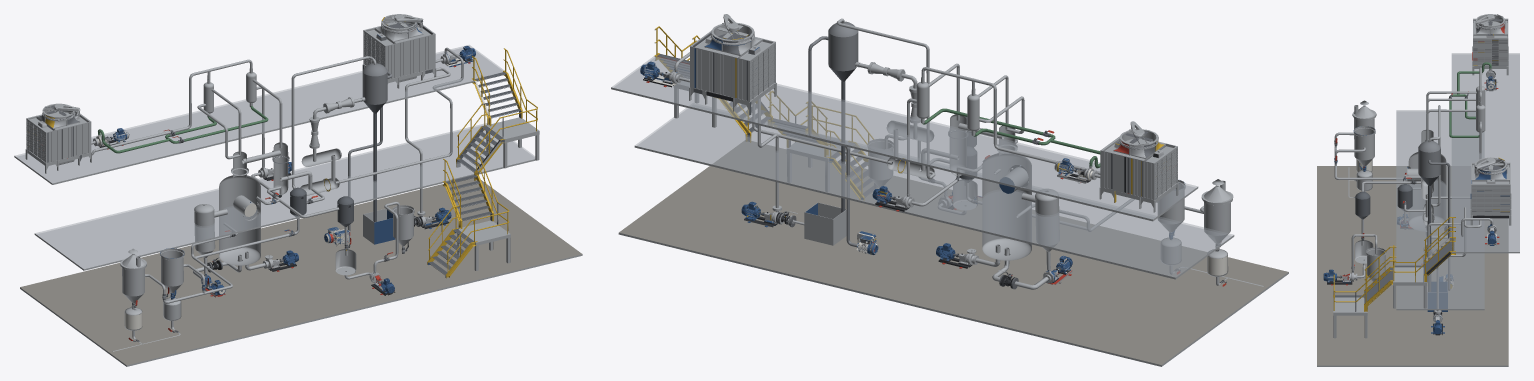
File: plant.glb
3 renders of one model, left to right at view 1: azimuth 30°, elevation 25°; view 2: azimuth 150°, elevation 25°; view 3: azimuth 270°, elevation 25°, orthographic. The views are drawn at different scales.
Parts seen in each view (by area): view 1: Distilation Plant Colored; view 2: Distilation Plant Colored; view 3: Distilation Plant Colored.
Part boxes in pixels (left/top/right/bottom): Distilation Plant Colored: left=14, top=14, right=582, bottom=366; Distilation Plant Colored: left=611, top=14, right=1288, bottom=366; Distilation Plant Colored: left=1317, top=14, right=1519, bottom=366.
Size of the model in its own units: 15.07 by 6.1 by 6.48.
